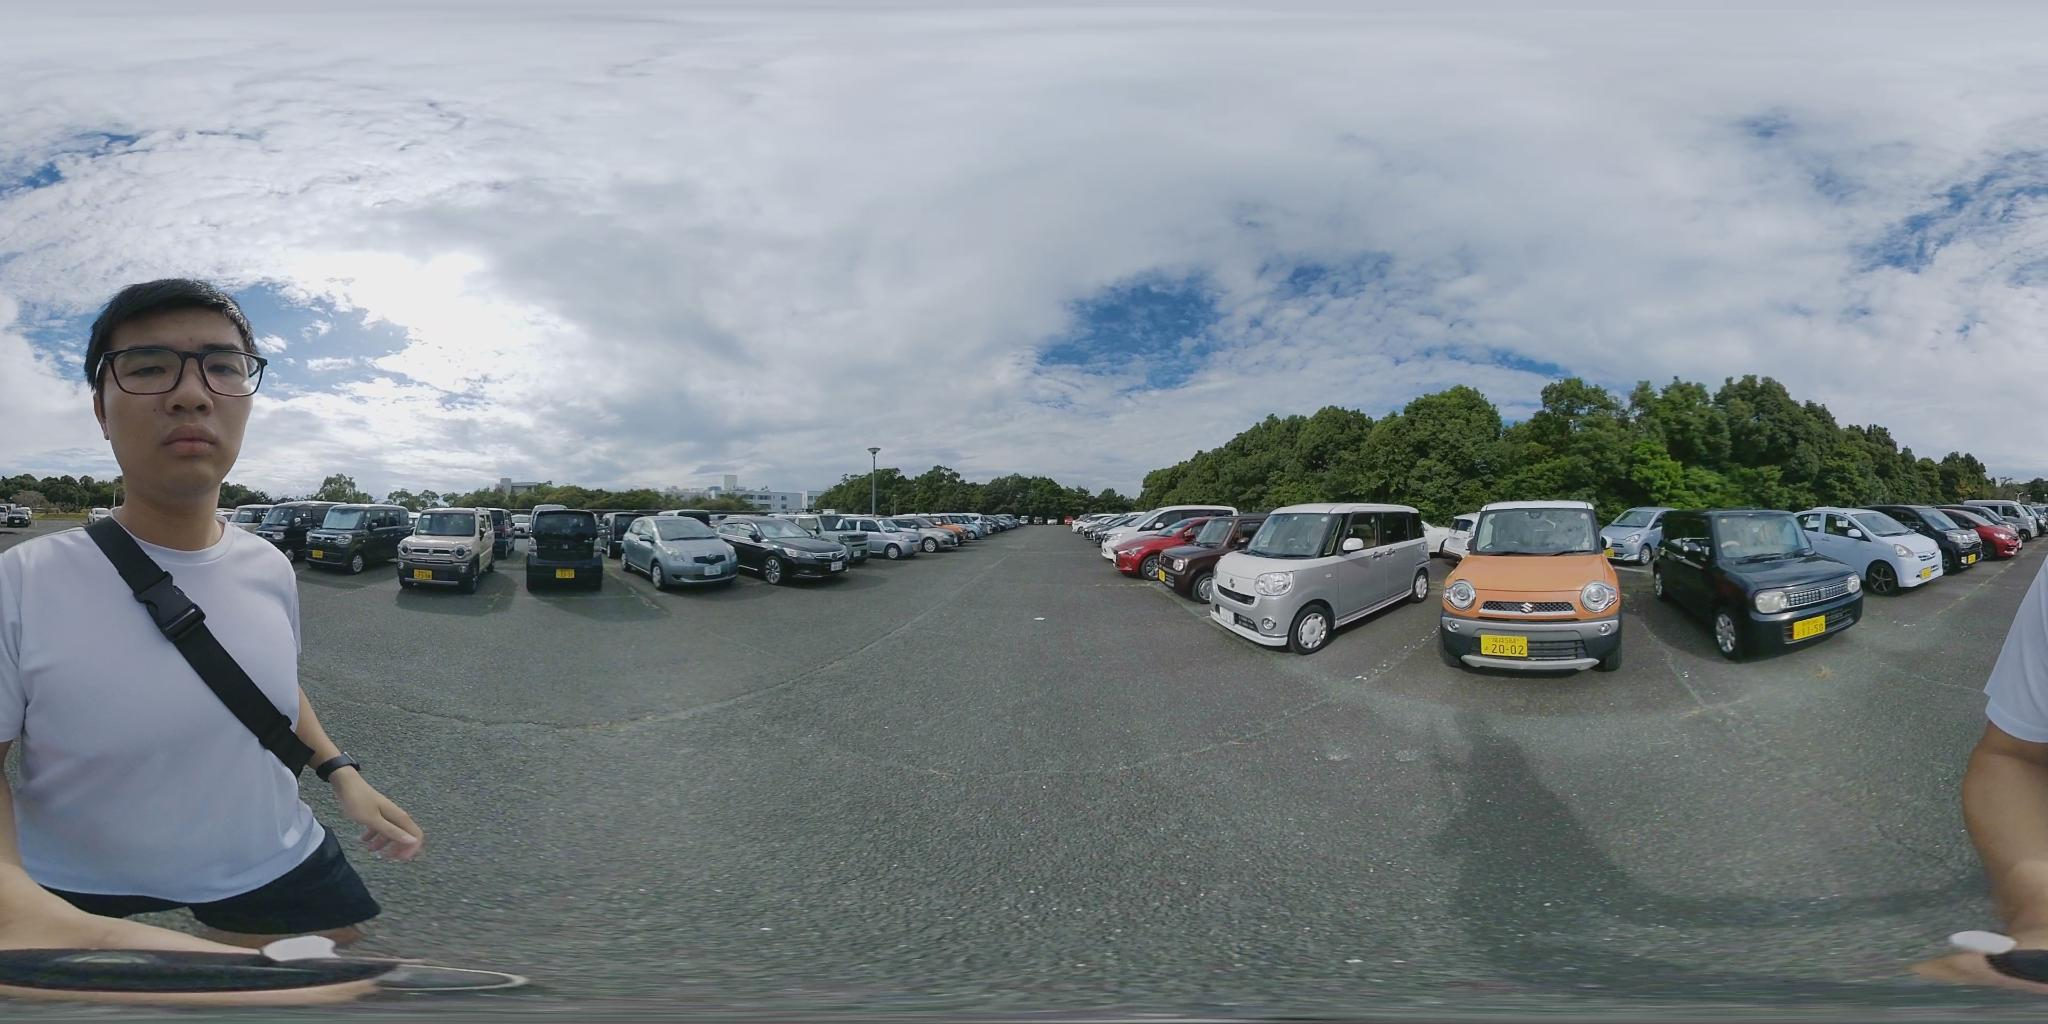car: (1651, 513, 1869, 661), (1445, 499, 1622, 671), (1219, 507, 1434, 639), (1799, 508, 1954, 592), (1113, 508, 1249, 583), (620, 515, 746, 588), (277, 505, 413, 572), (400, 513, 512, 590), (721, 519, 853, 583), (1873, 504, 1993, 567), (1604, 508, 1707, 567), (820, 519, 952, 560), (1940, 505, 2027, 560), (3, 503, 37, 525)
